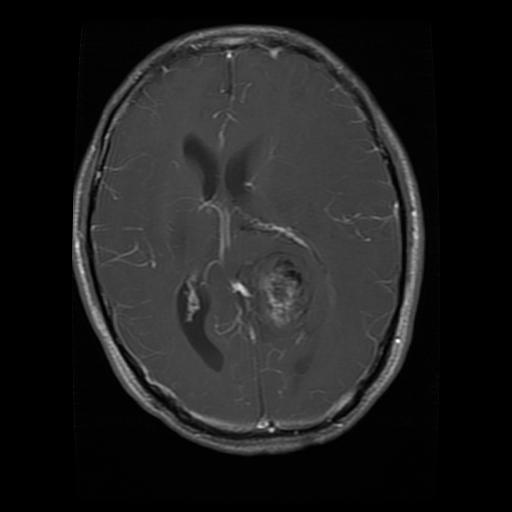Gliomia_tumour: (225, 248, 327, 343)
